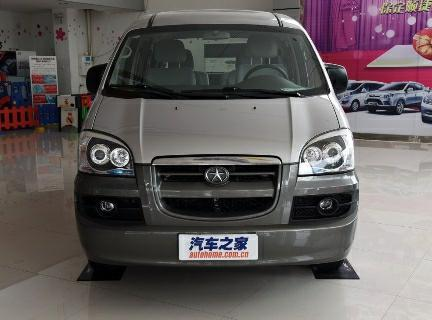car: (56, 5, 377, 278)
